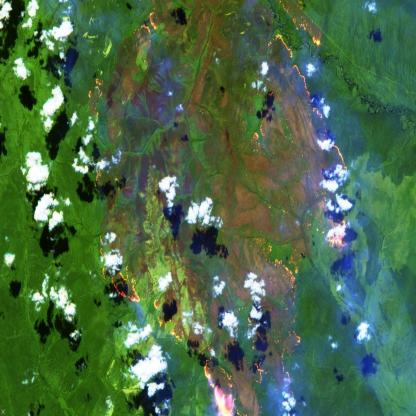fire: (84, 0, 362, 416)
